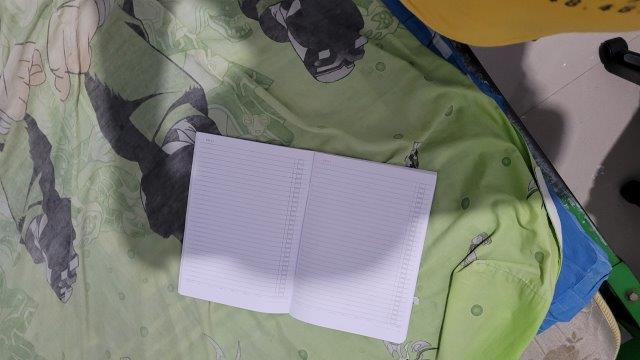kertas: (178, 131, 437, 346)
